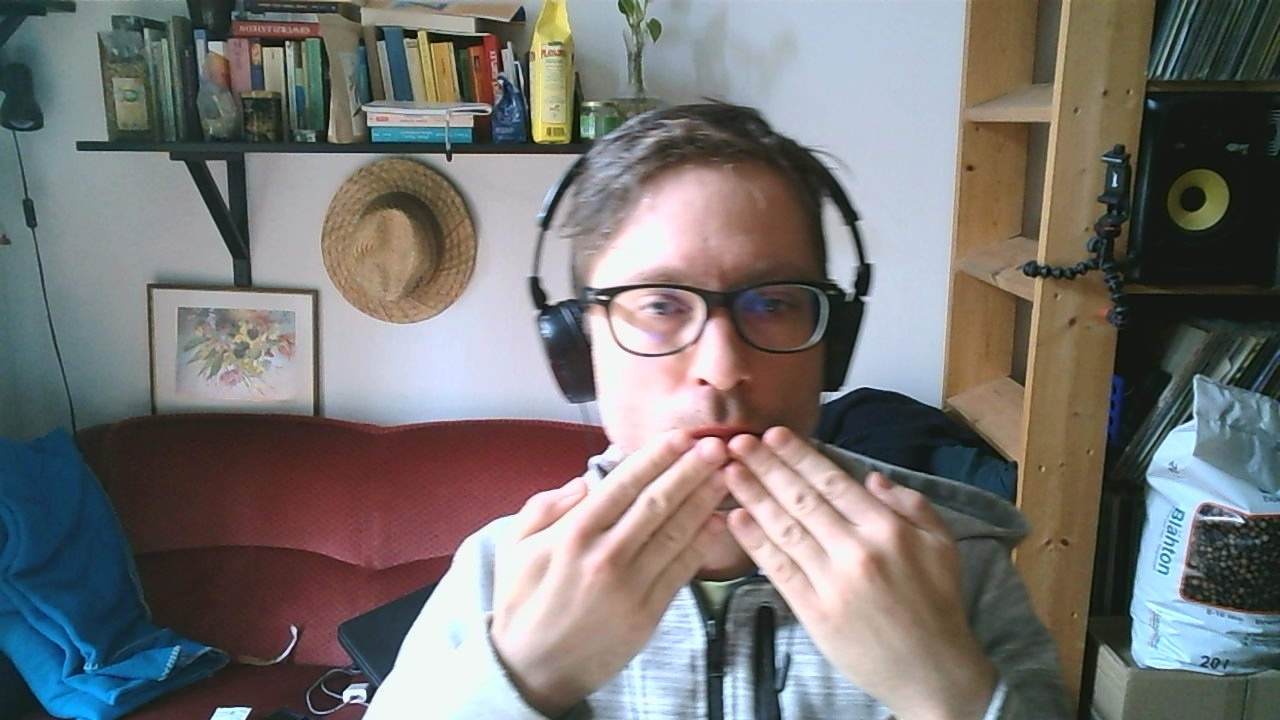thanks: (491, 423, 963, 698)
